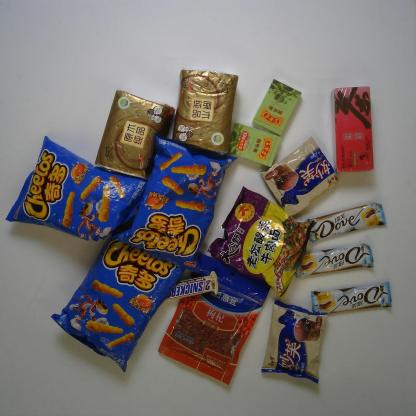Candy: (252, 78, 302, 137), (227, 122, 281, 168)
Chocolate: (303, 202, 387, 244), (294, 243, 374, 279), (310, 282, 392, 315), (144, 268, 220, 302)
Dessert: (259, 136, 339, 218), (261, 300, 328, 385)
Dried Fruit: (158, 252, 272, 386)
Instant Drink: (330, 86, 375, 174)
Instant Noodles: (206, 186, 318, 298)
Puffed Food: (50, 216, 187, 372), (112, 132, 238, 274), (5, 137, 148, 243)
Tissue: (94, 89, 176, 181), (172, 70, 239, 155)
